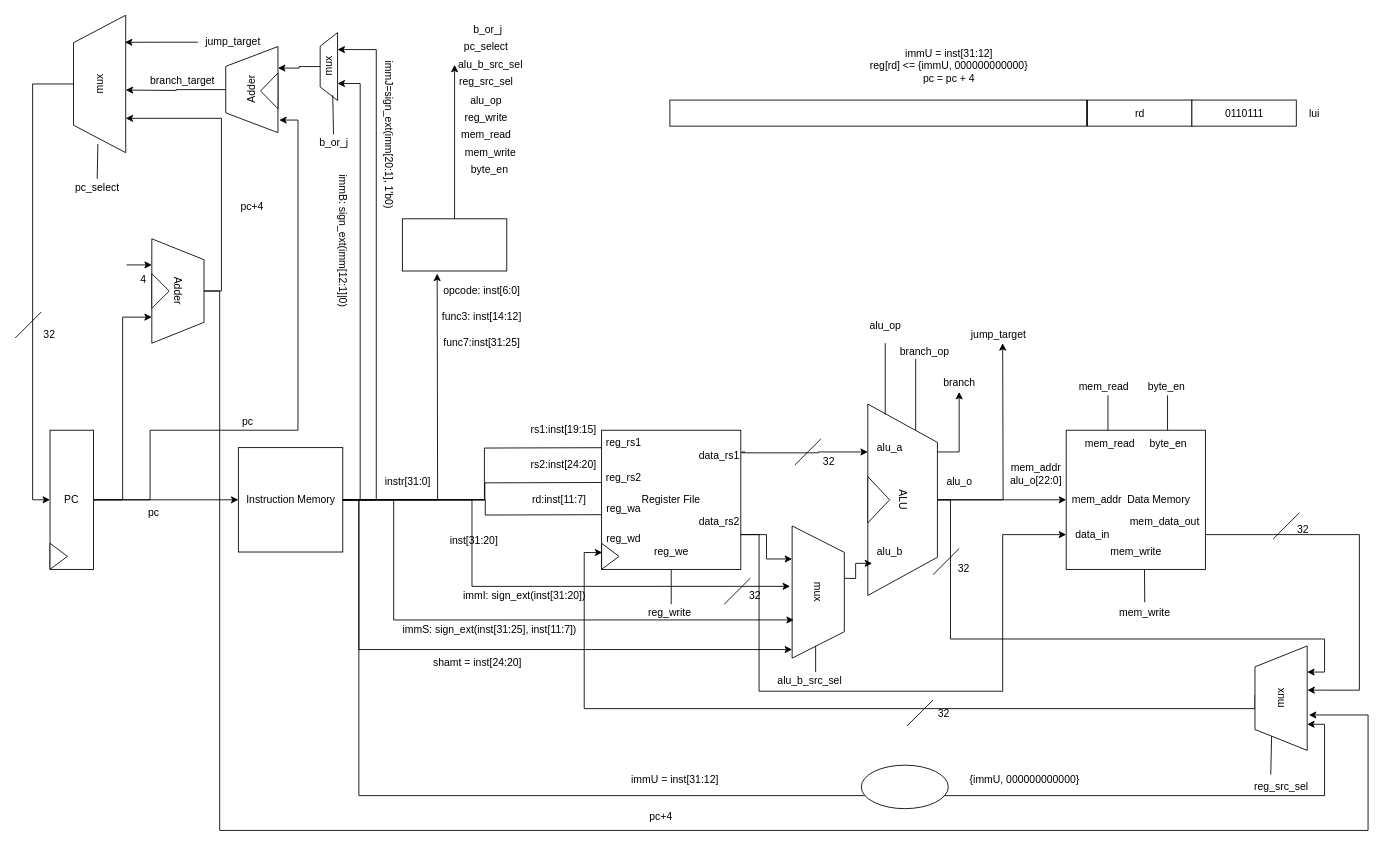
Some shapes in this 1390 by 853 pixel diagram are drawn without their labels. The shapes that lost their labels are listed below. From the top down, each one's centre as x and y in pixels, then its label:
point (878, 112): imm[31:12]
point (454, 244): control
